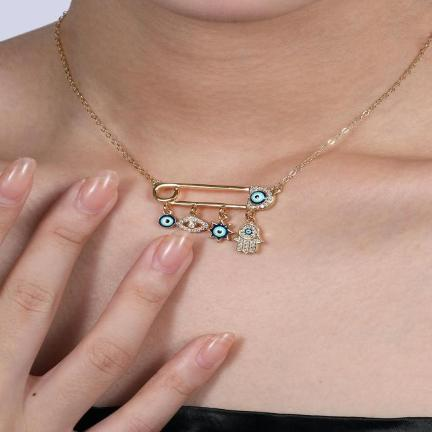Nail: (75, 169, 120, 215), (151, 230, 195, 274), (0, 157, 38, 206), (195, 330, 236, 369)
